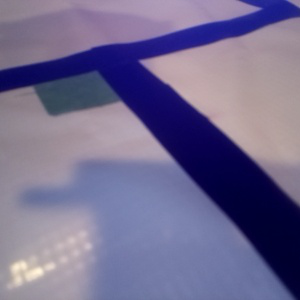bottom_left: (32, 64, 142, 115)
